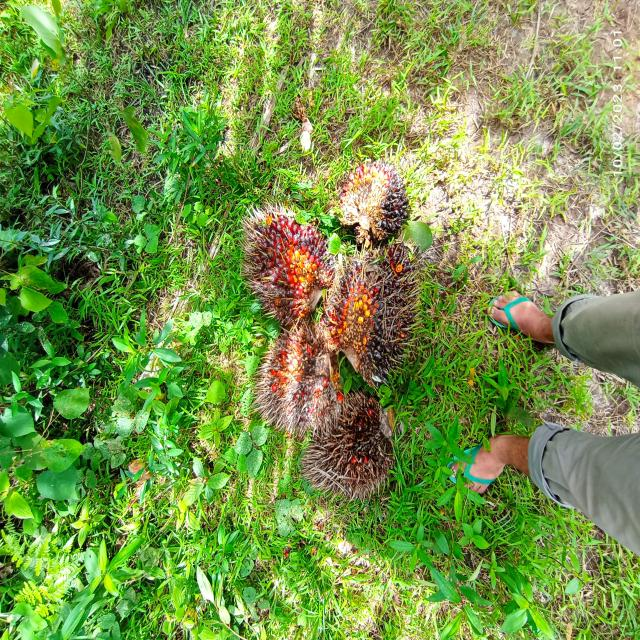fraksi 00: (314, 240, 420, 378), (332, 154, 424, 251)
fraksi 3: (228, 195, 336, 324)
fraksi 4: (303, 363, 417, 510), (235, 324, 341, 450)
